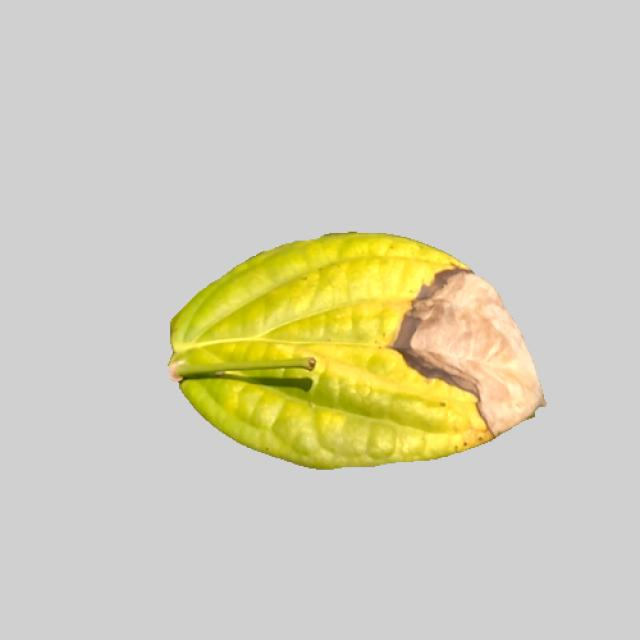leaf-blight: (160, 229, 547, 469)
